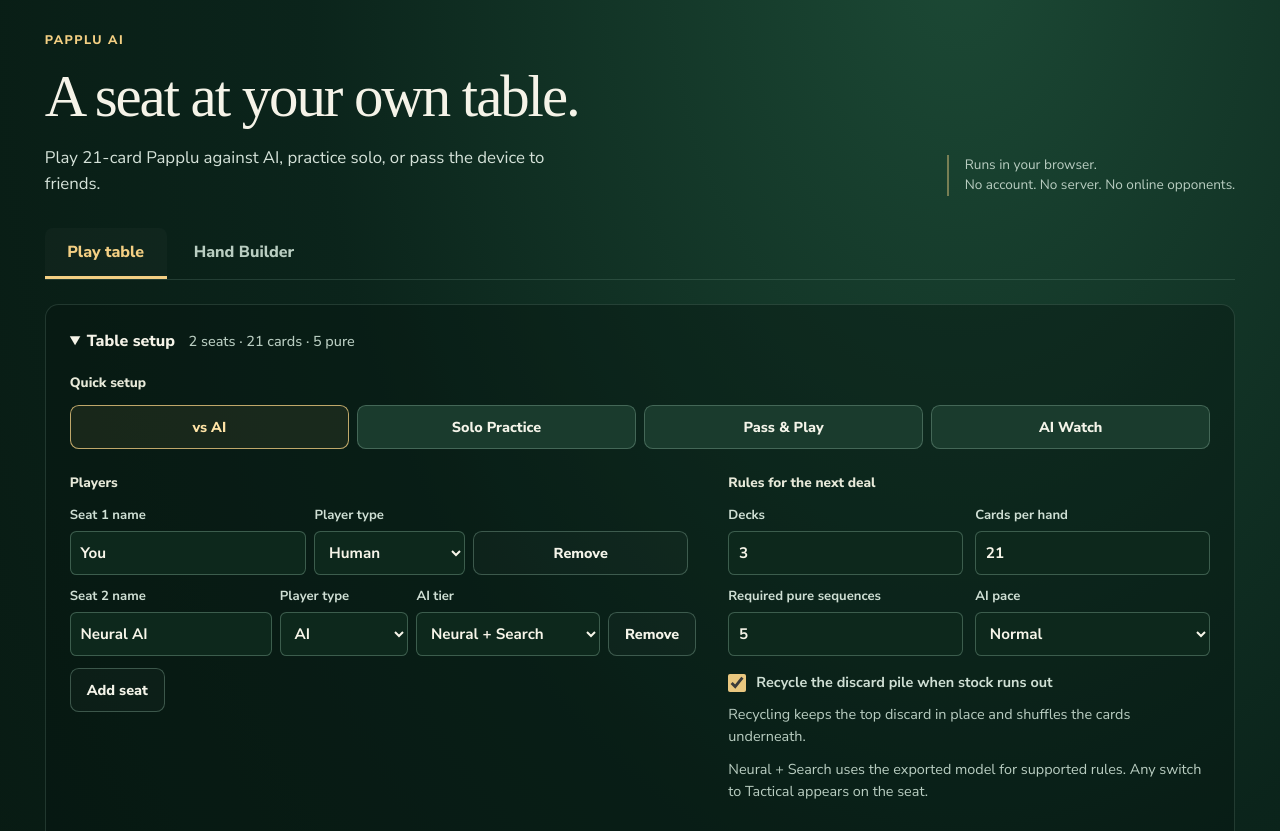
Test: builder evaluation failures are retryable errors, not invalid verdicts
The image size is (1280, 831).
Click the tab "Hand Builder". click: coordinates (244, 253)
box: [171,228,316,279]
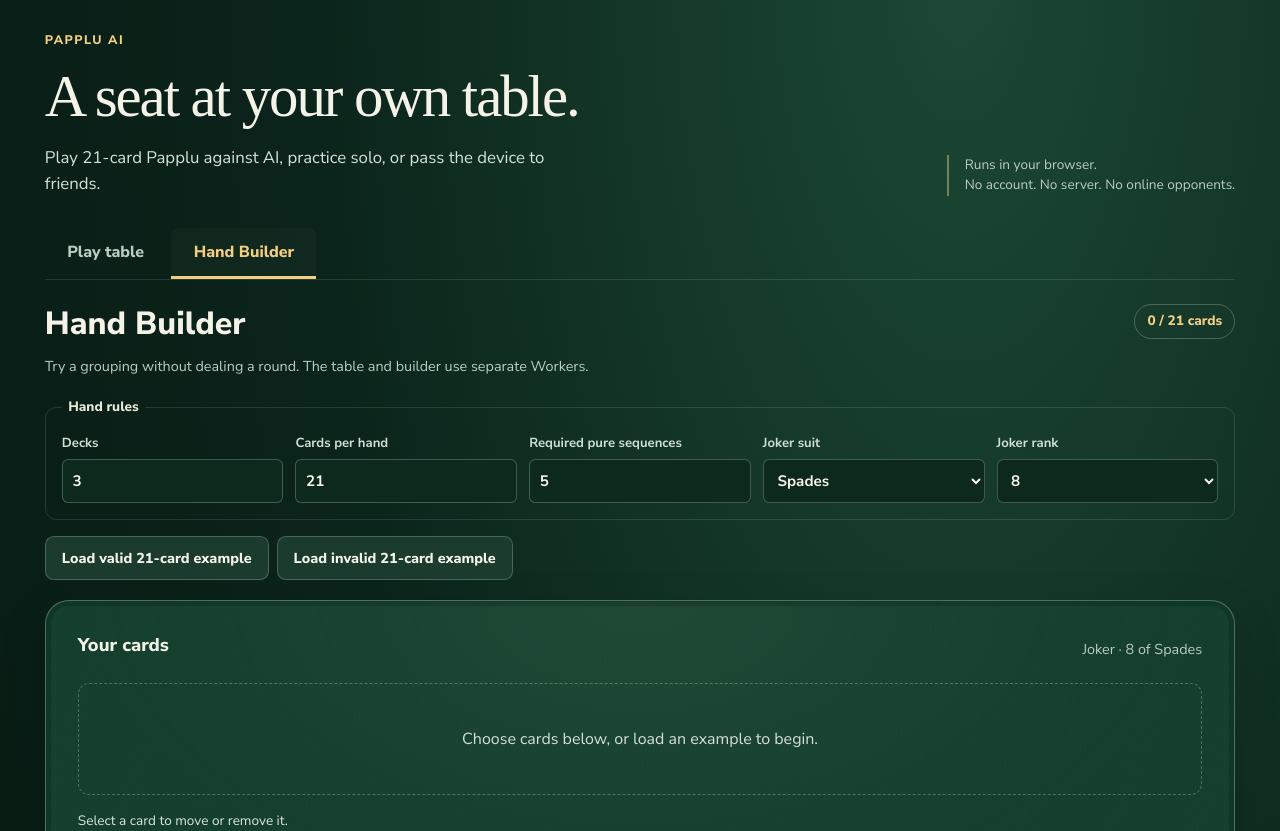
Click the button "Load valid 21-card example". click: coordinates (157, 558)
box: [45,536,269,580]
(page scrolled)
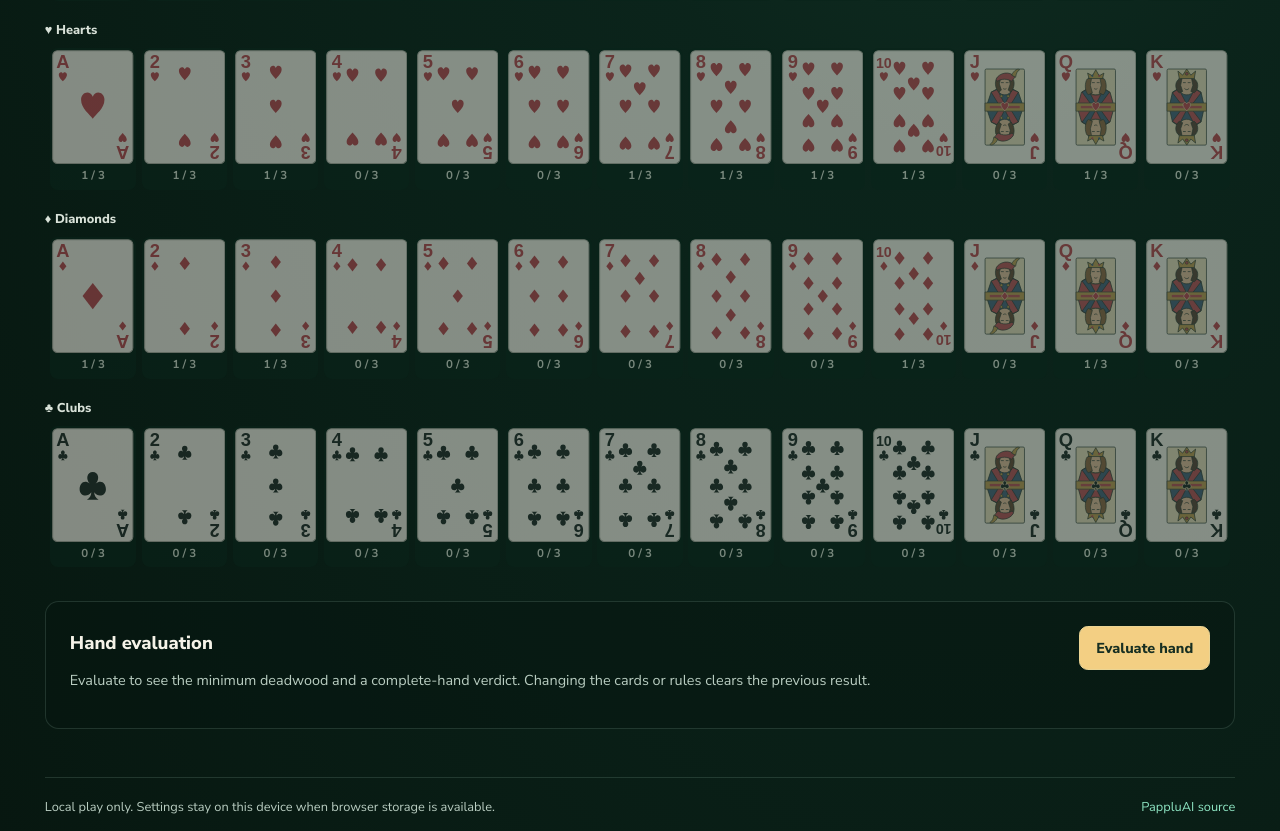
Click the button "Evaluate hand". click: coordinates (1145, 648)
box: [1079,626,1210,670]
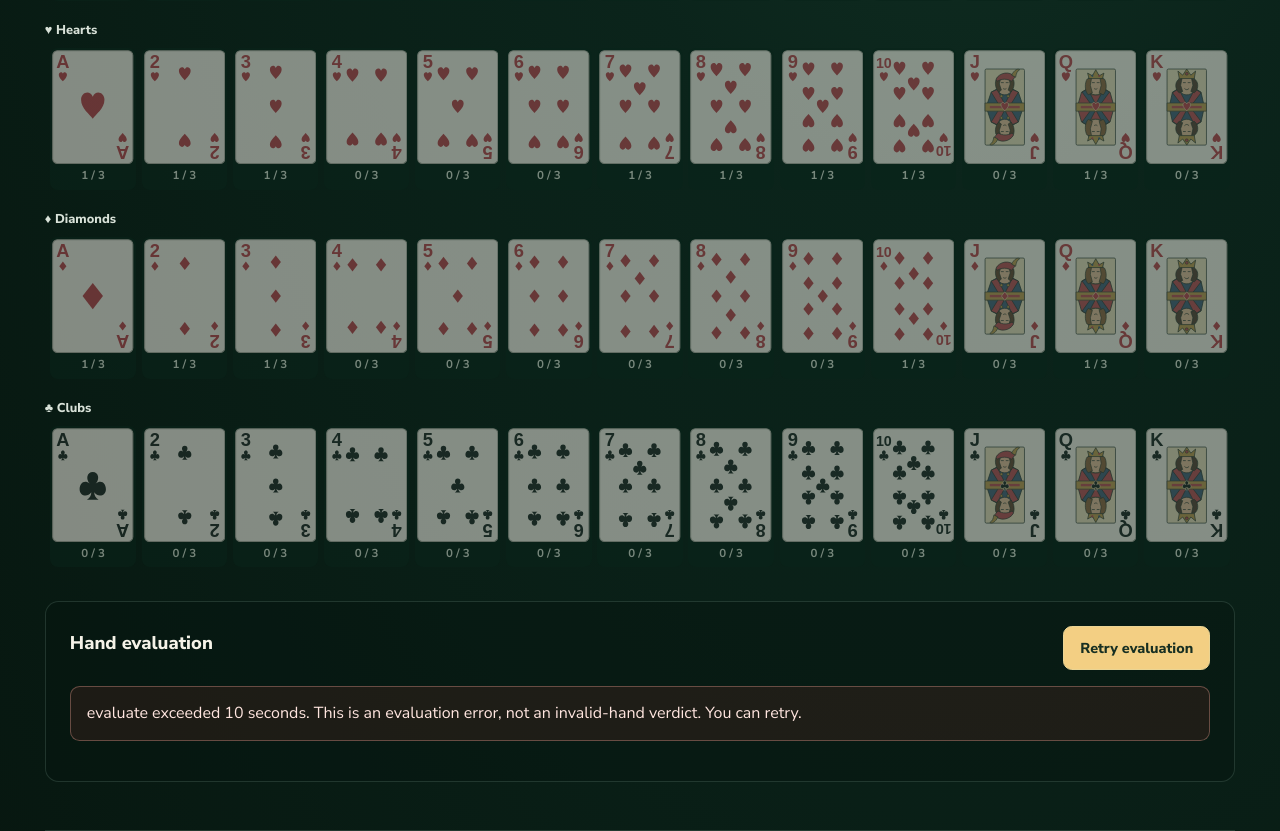
Check: the message shows "evaluate exceeded 10 seconds", box [87,702,802,724]
Check: the message shows "not an invalid-hand verdict", box [87,702,802,724]
Click the button "Retry evaluation". click: coordinates (1137, 648)
box: [1063,626,1210,670]
(page scrolled)
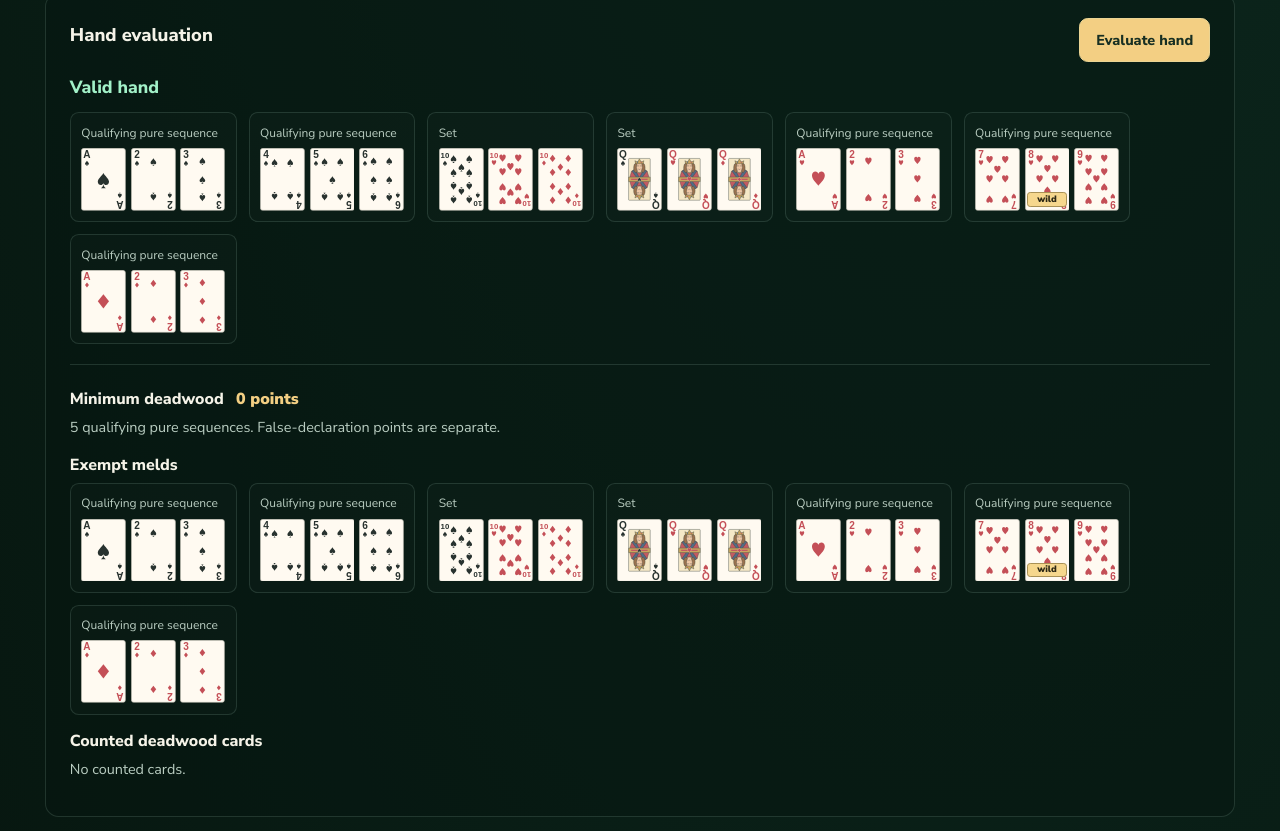
Check: the text "Valid hand" is shown, box [70,75,159,99]
Check: the heading "Minimum deadwood 0 points" is shown, box [70,388,299,410]
